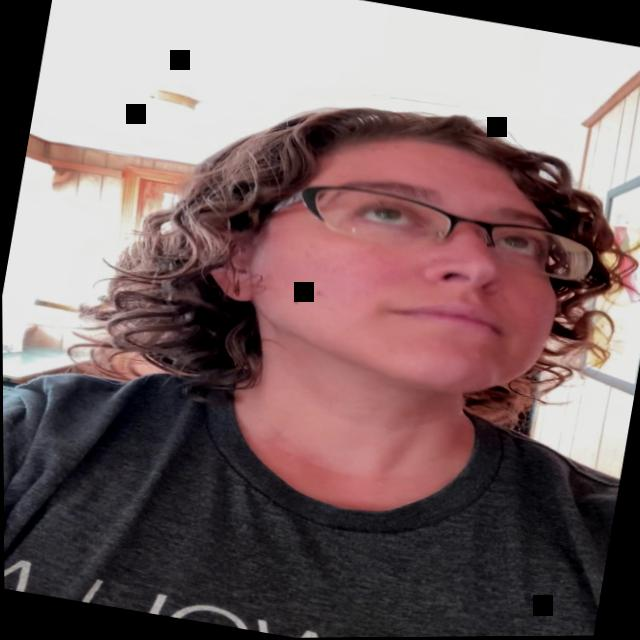NO-Mask: (238, 119, 586, 410)
